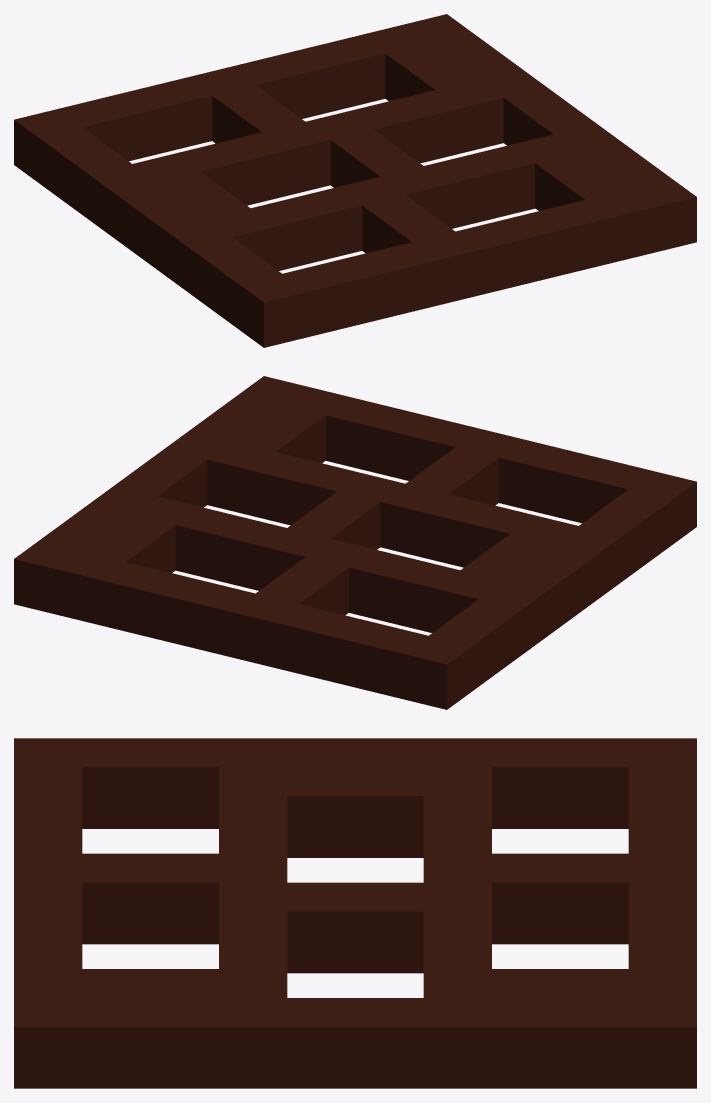
File: BunnyPlate.FBX
3 renders of one model, top to bottom at view 1: azimuth 30°, elevation 25°; view 2: azimuth 150°, elevation 25°; view 3: azimuth 270°, elevation 25°, orthographic. The views are drawn at different scales.
Parts seen in each view (by area): view 1: Plate; view 2: Plate; view 3: Plate.
Boxes of the visible parts, x1=… form: Plate: x1=14, y1=14, x2=696, y2=347; Plate: x1=14, y1=376, x2=696, y2=709; Plate: x1=14, y1=738, x2=696, y2=1088.
Bounding box in the file's own units: 1 × 0.1 × 1.
